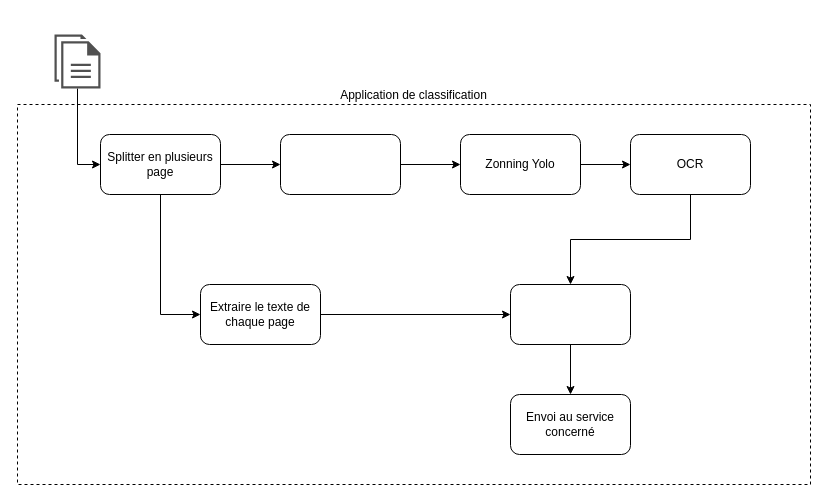
Some shapes in this 828 by 502 pixel diagram are drawn without their labels. The shapes that lost their labels are listed below. From the top down, each one's box as (x1, y1, x2, y2) in pixels, then its label:
(54, 34, 100, 88): Documents
(280, 134, 400, 194): Prétraitement des scan
(510, 284, 630, 344): Prédiction du sujet
